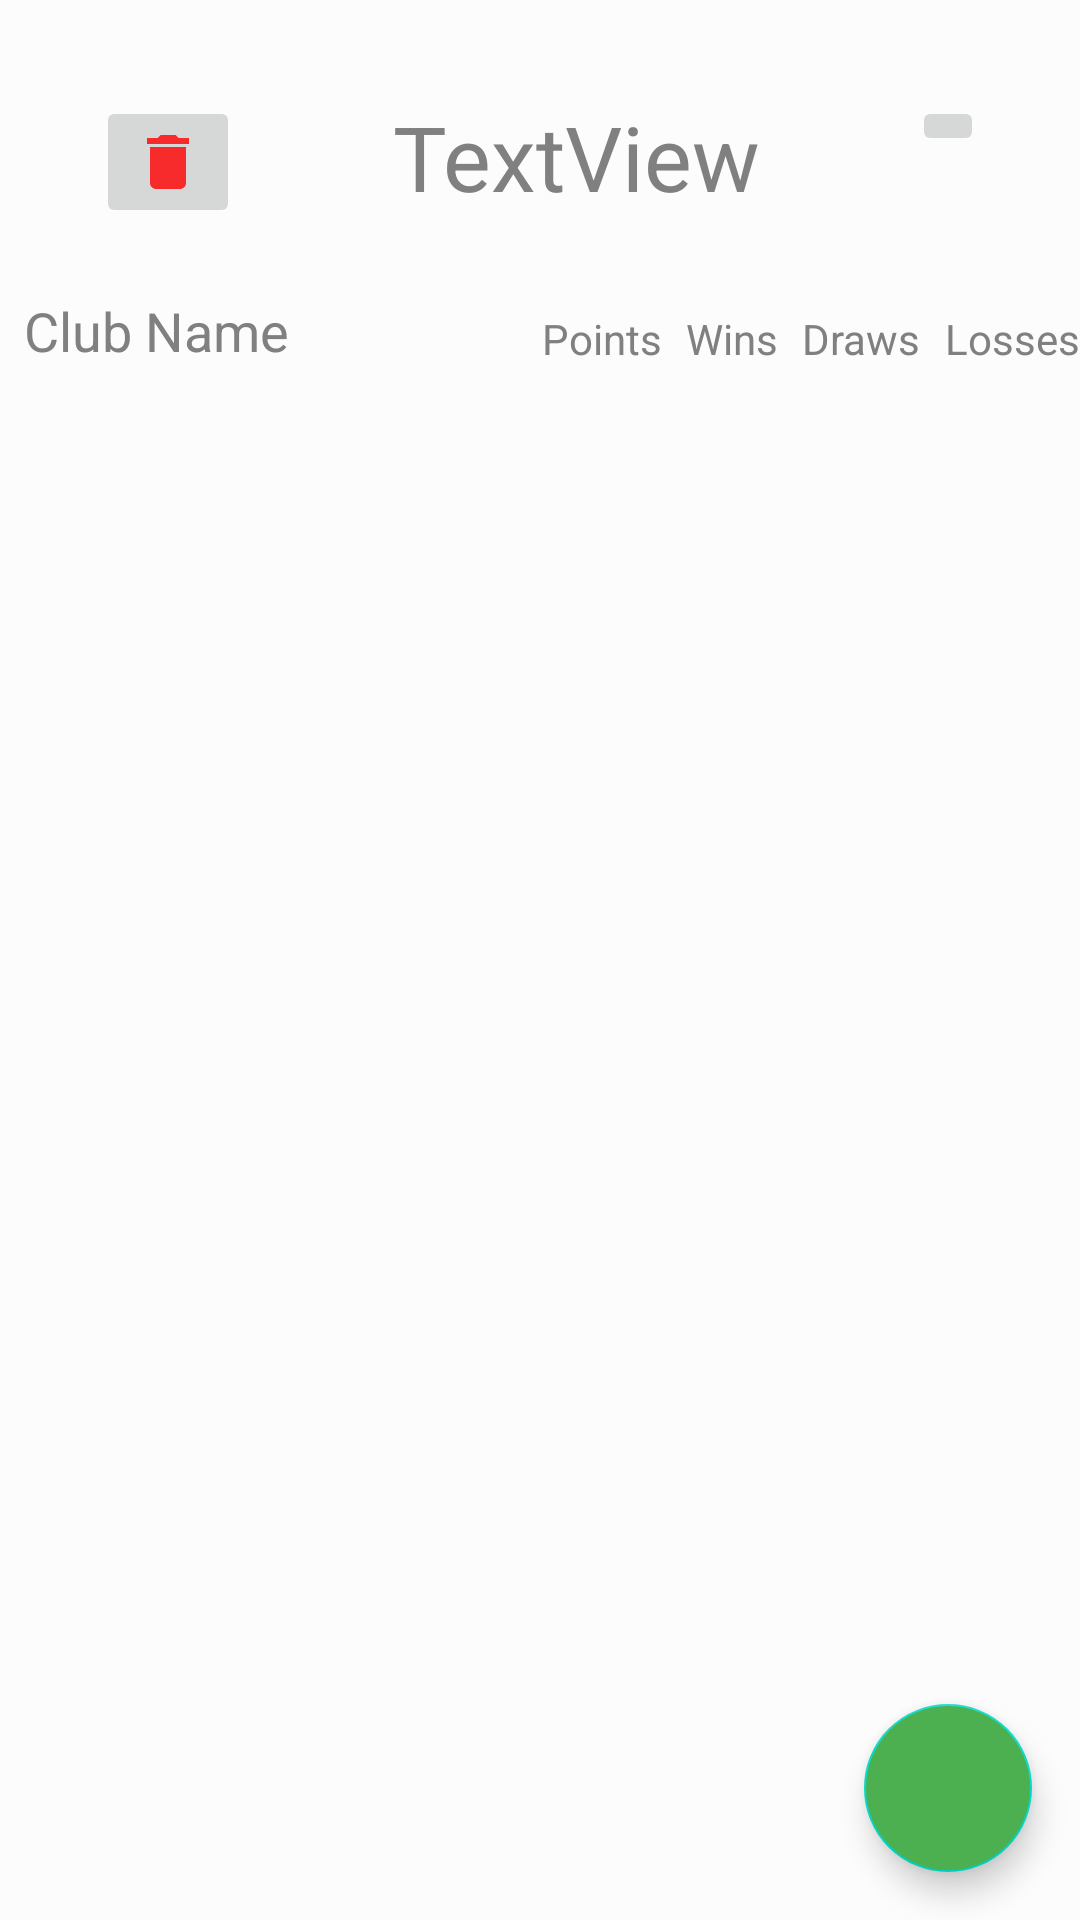

Icons on this 1080px x 1920px Android screen, each with the point to tap as (x=x, y=y):
delete: (x=168, y=162)
